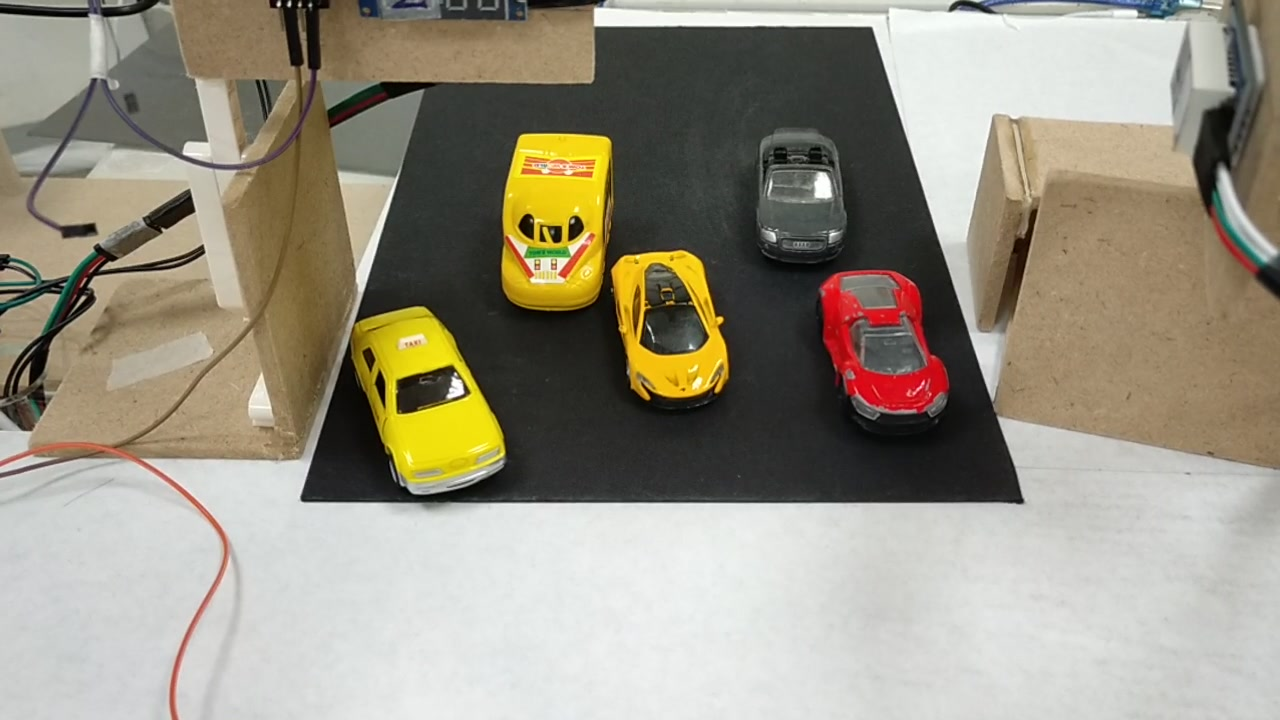car: (344, 316, 507, 493), (819, 274, 949, 429), (610, 258, 734, 411), (750, 135, 842, 262)
